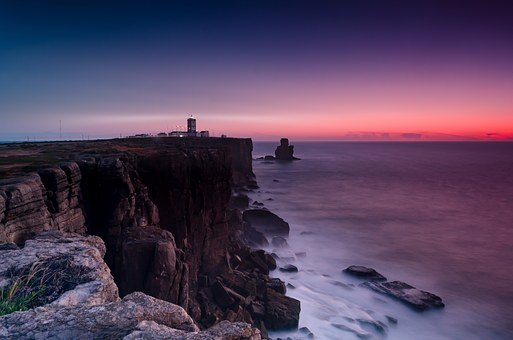sea: (199, 134, 511, 337)
sky: (2, 3, 509, 138)
stone: (10, 146, 290, 340)
